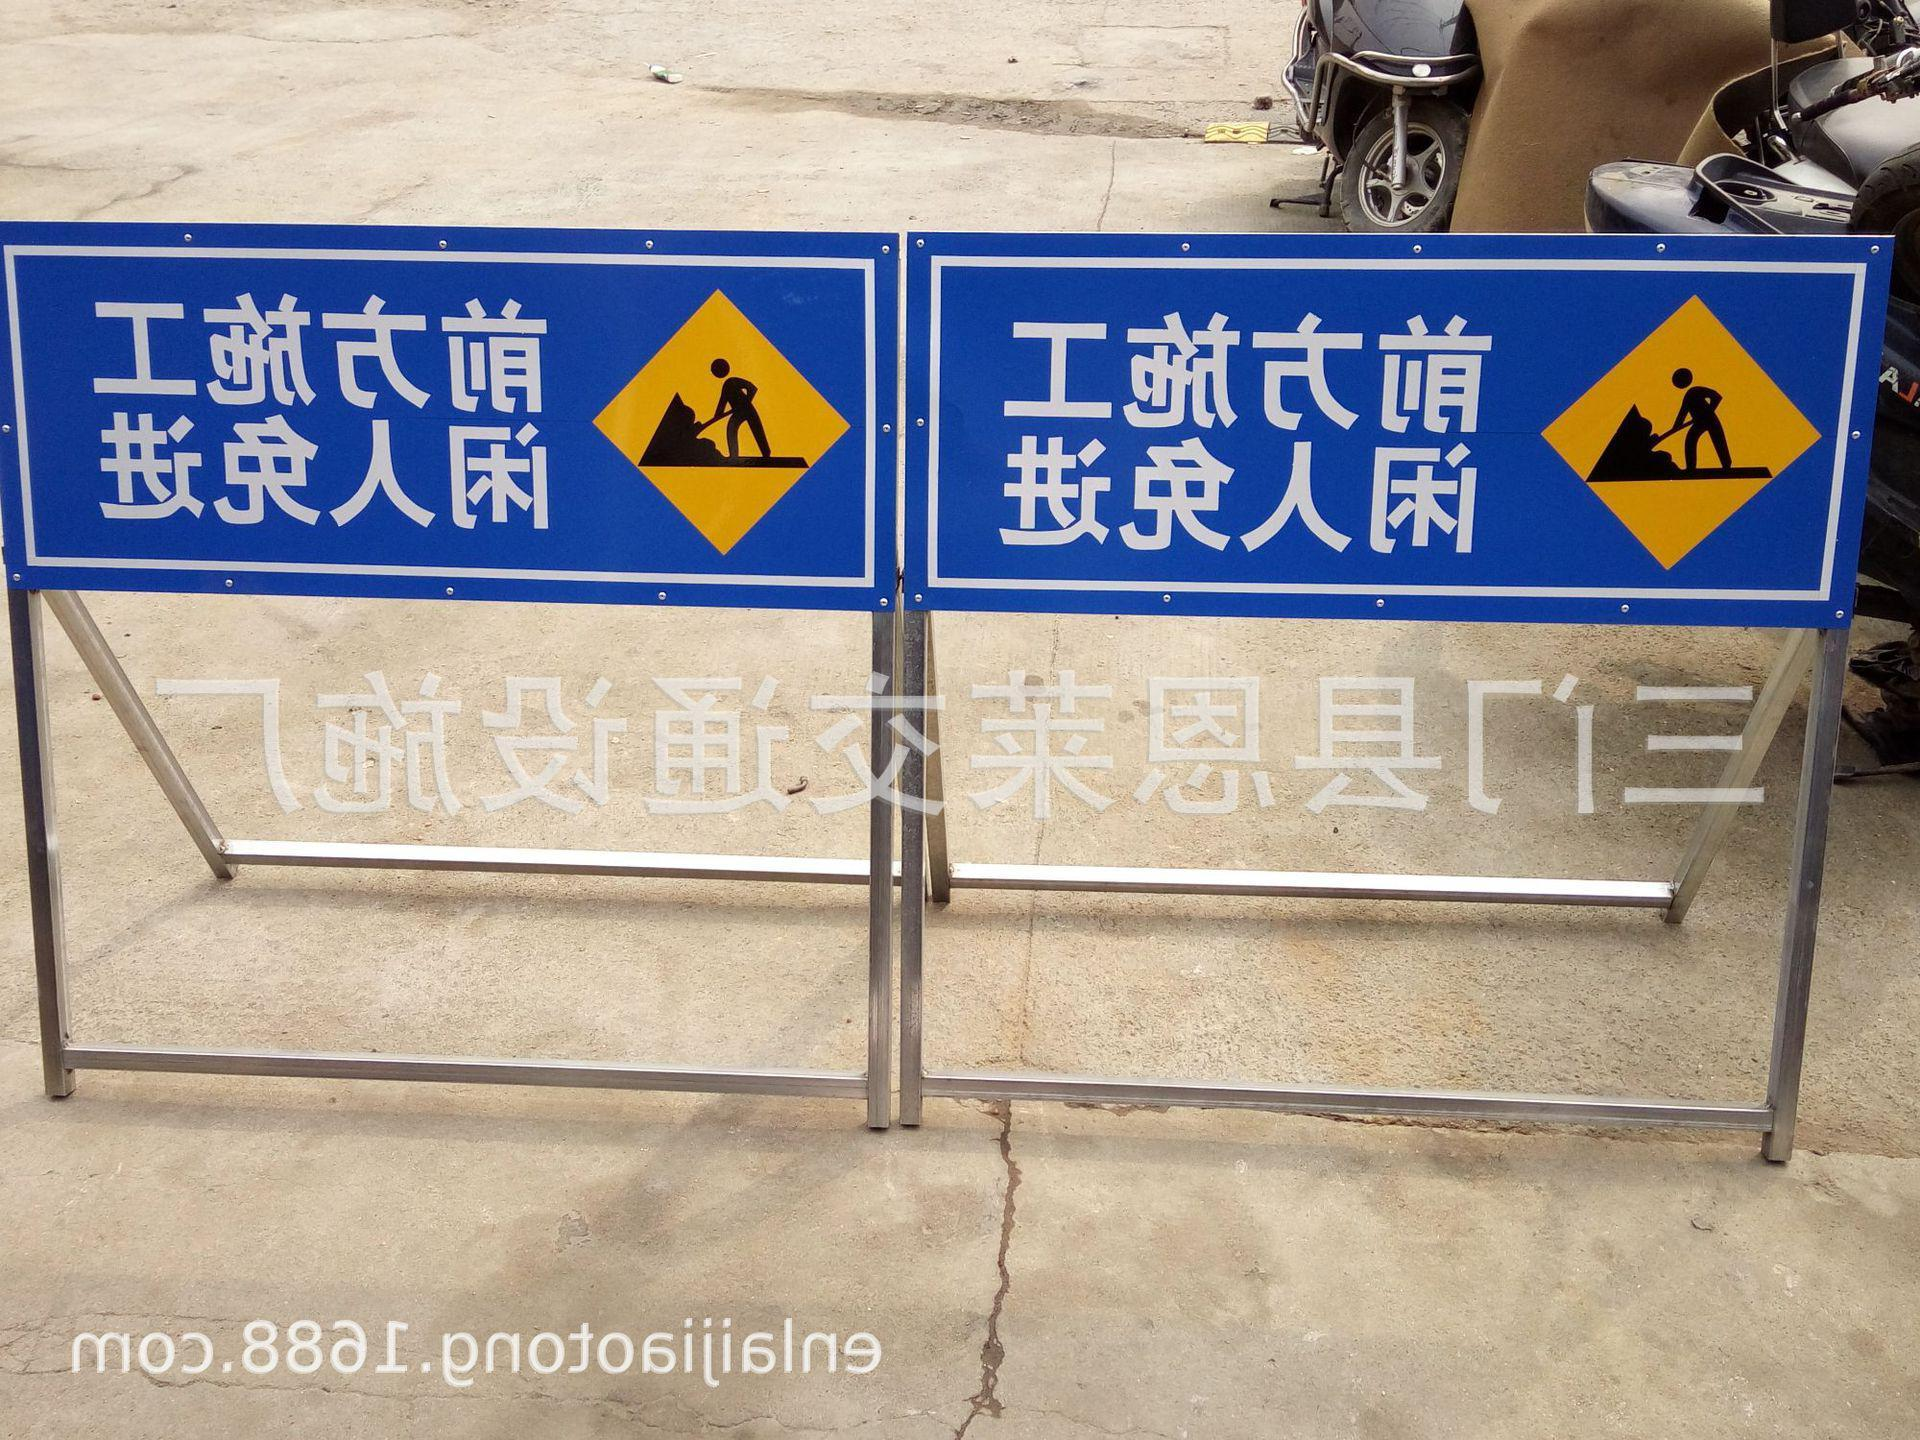sign: (913, 222, 1888, 622), (2, 213, 898, 613)
